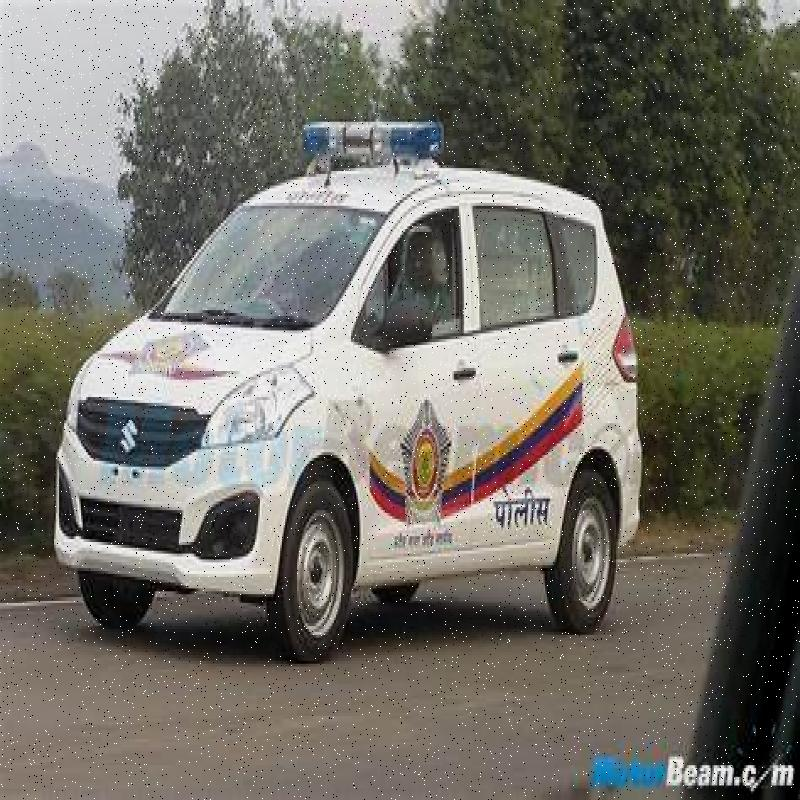AmbulanceSiren: (292, 112, 449, 180)
